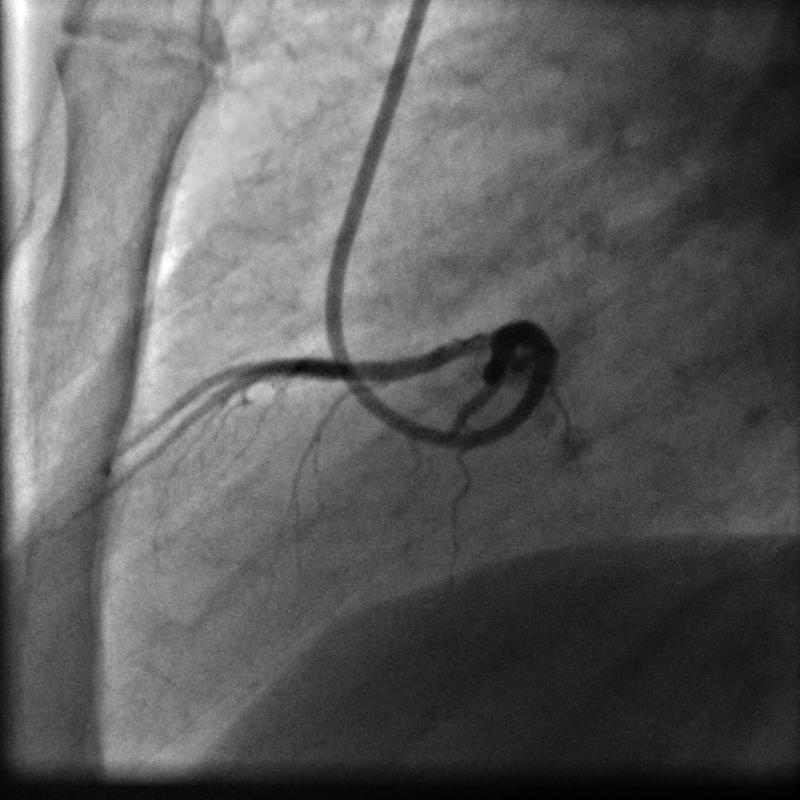Stenosis: (345, 359, 374, 383)
